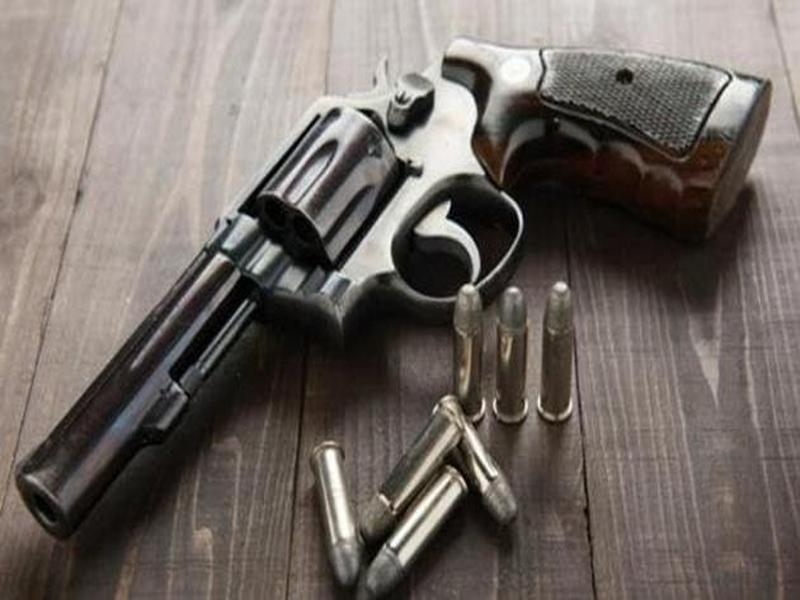GUN: (7, 36, 776, 545)
